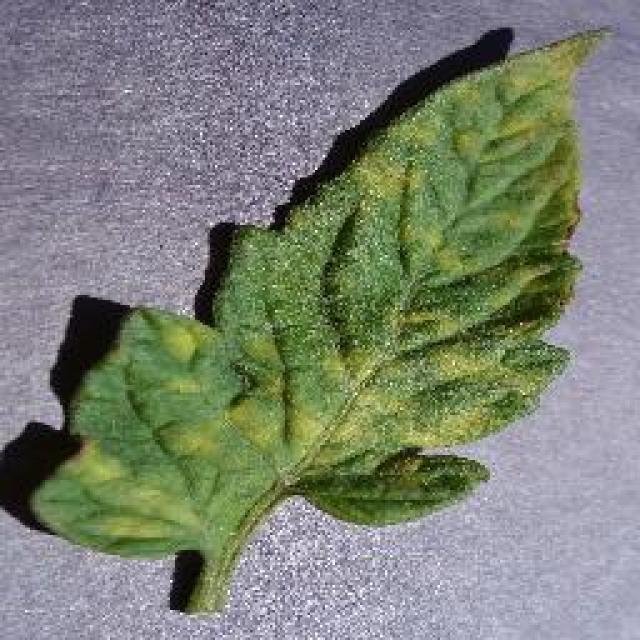Tomato___Leaf_Mold: (32, 32, 598, 610)
